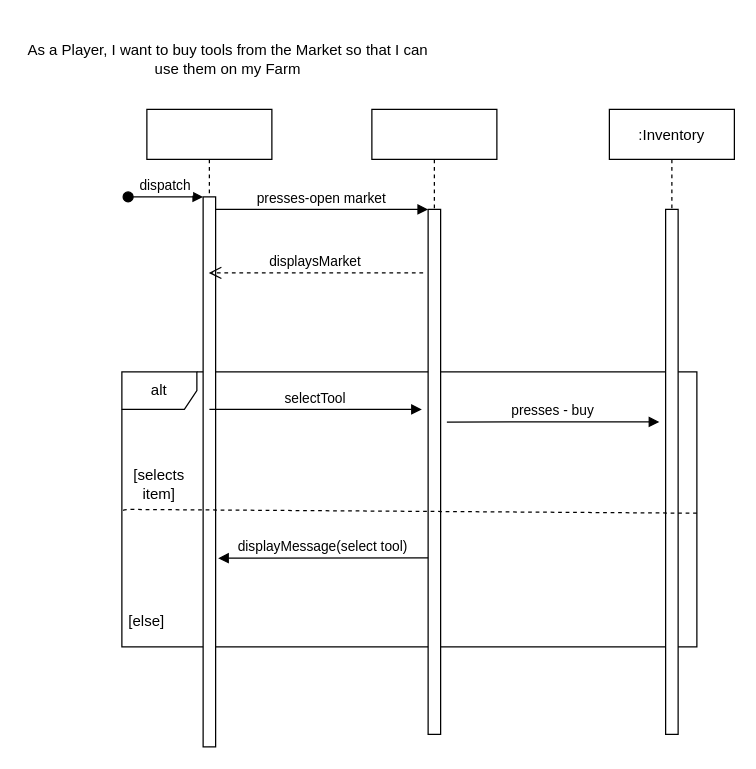
This 756x769 diagram has some shape labels left out. Each missing label, with the box of its shape:
:Market: (371, 108, 497, 734)
:User: (146, 108, 272, 747)
